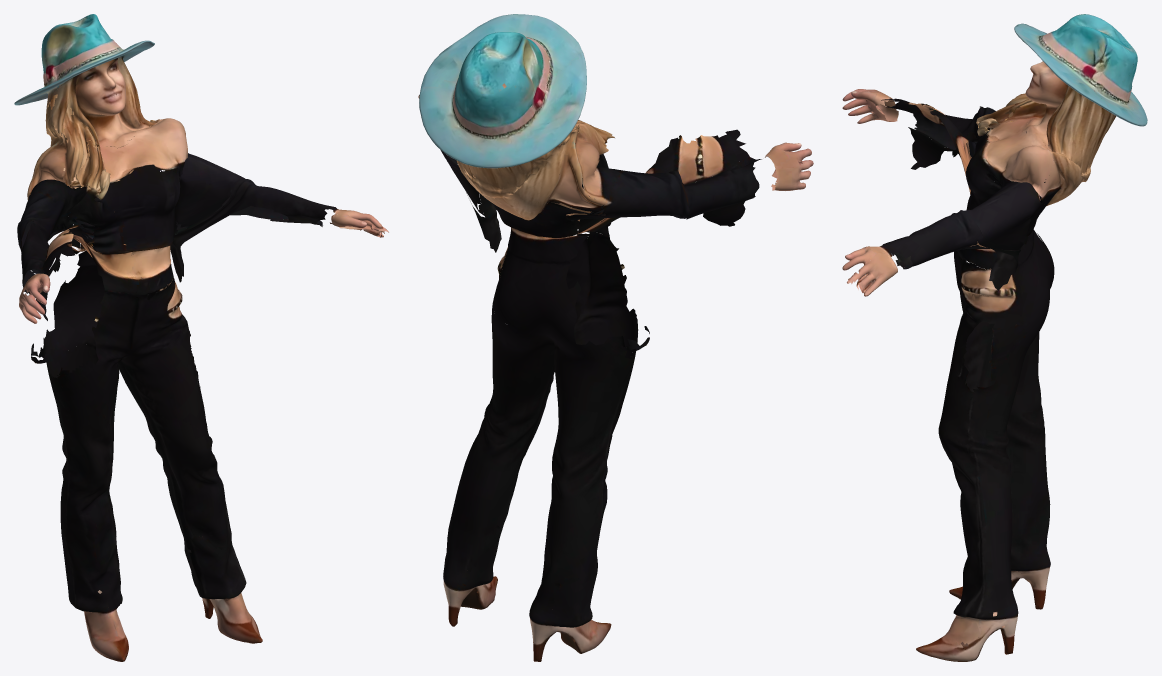
3 views of the same model, side by side, from view 1: azimuth 30°, elevation 25°; view 2: azimuth 150°, elevation 25°; view 3: azimuth 270°, elevation 25° (orthographic). The views are drawn at different scales.
Parts seen in each view (by area): view 1: model; view 2: model; view 3: model.
Part boxes in pixels (<box>): model: <box>14,14,388,661</box>; model: <box>418,14,813,661</box>; model: <box>842,14,1147,661</box>.
Size of the model in its own units: 1.16 by 1.84 by 0.858.
Materials: 1 (1 with a texture image).
